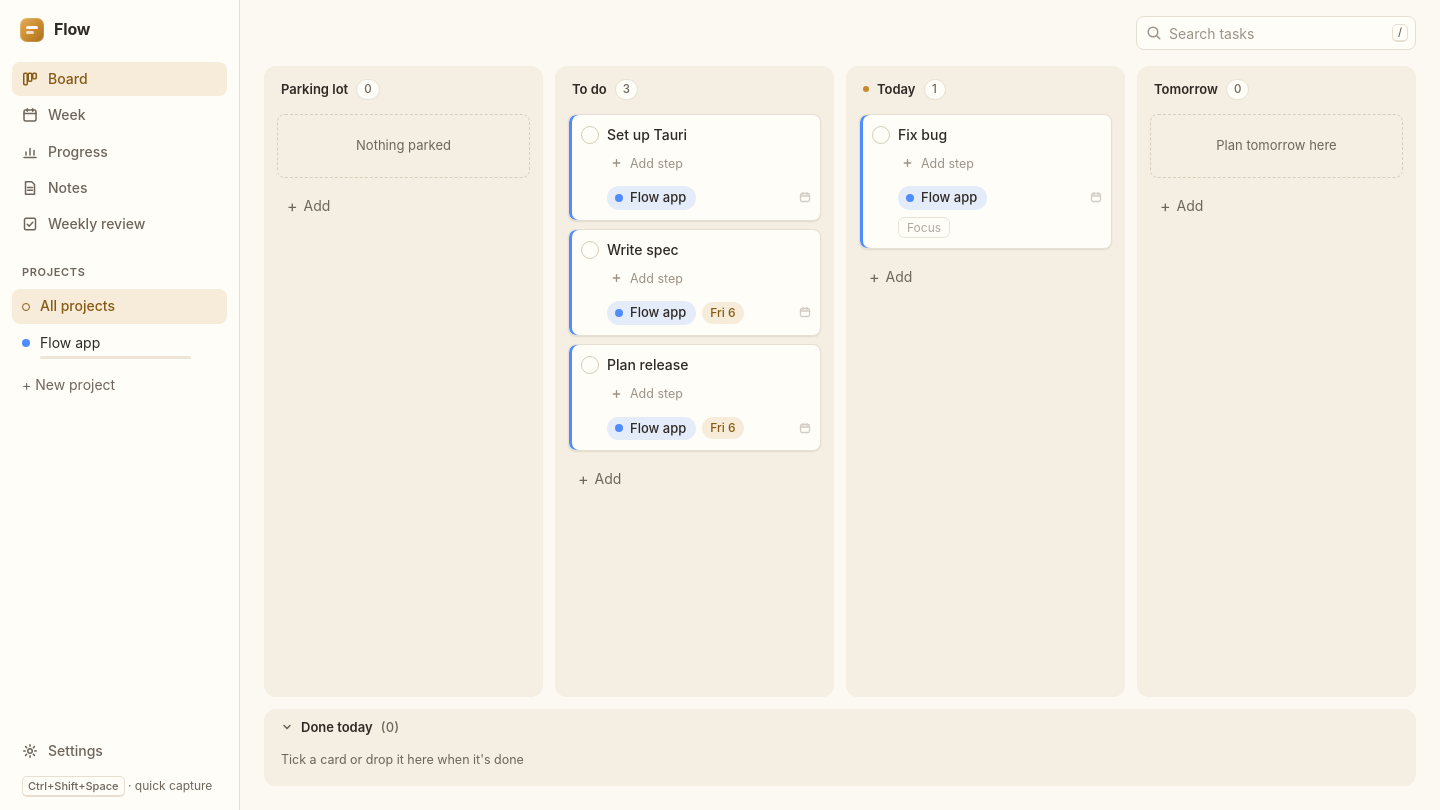
Scenario: Week calendar: week-only items › double-click renames an item inline; Escape keeps the old title
expect the button "Set up Tauri" is shown: met, box [607,125,810,144]
Type keys "w"
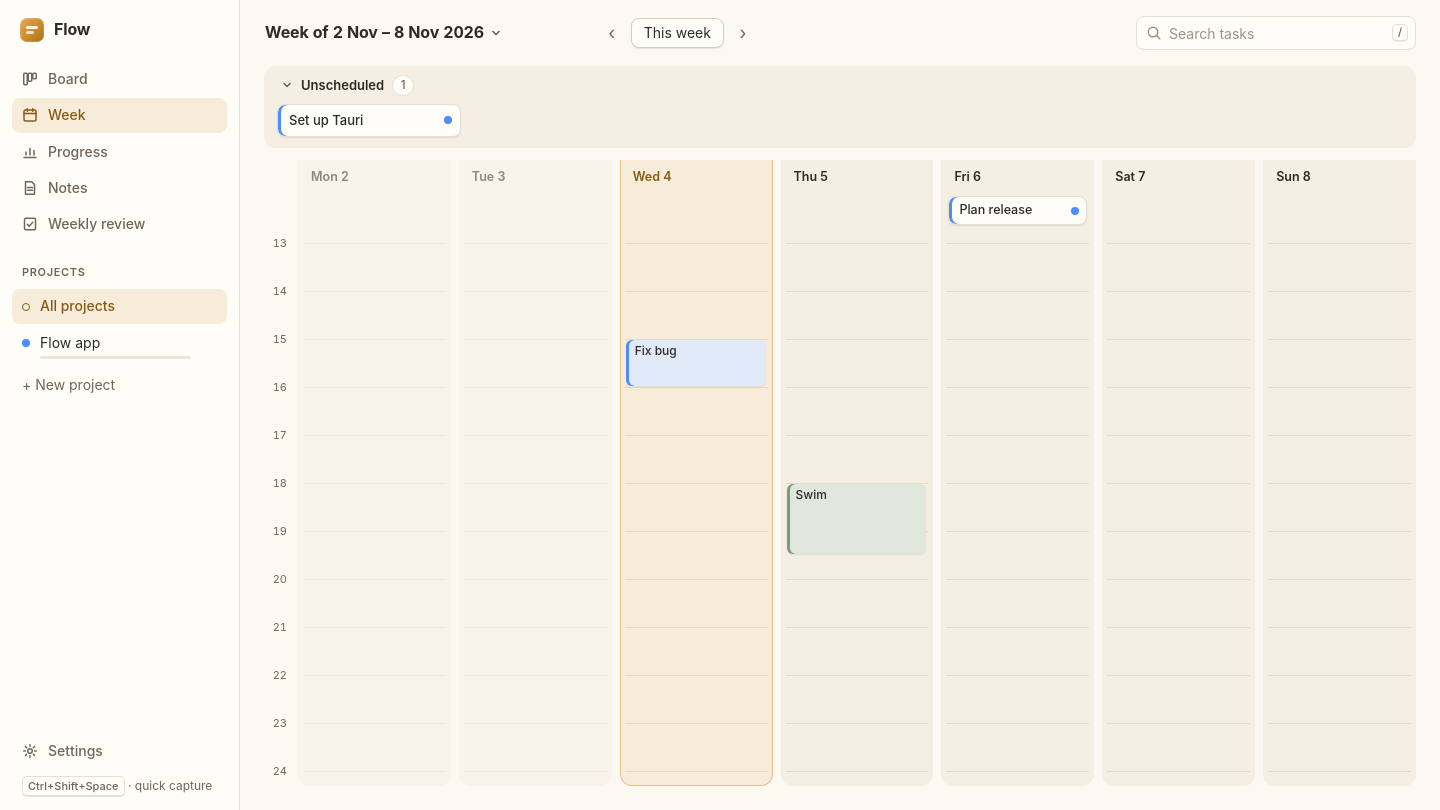
Double-click the button "Swim": (857, 519) [787,484,926,554]
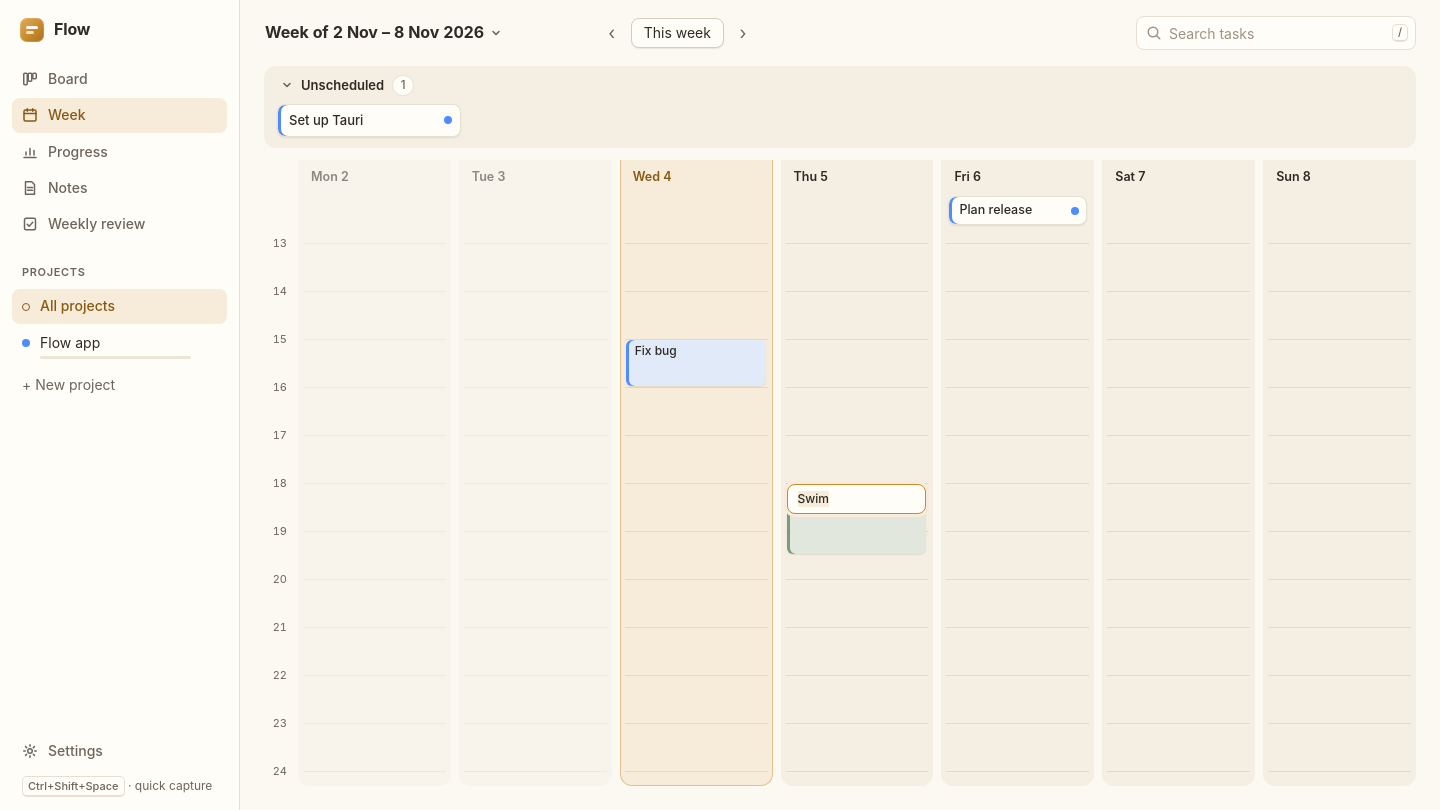
Replace the text in the field named "Rename Swim" with "Swimming": (857, 499) [787,484,926,514]
Then press Enter
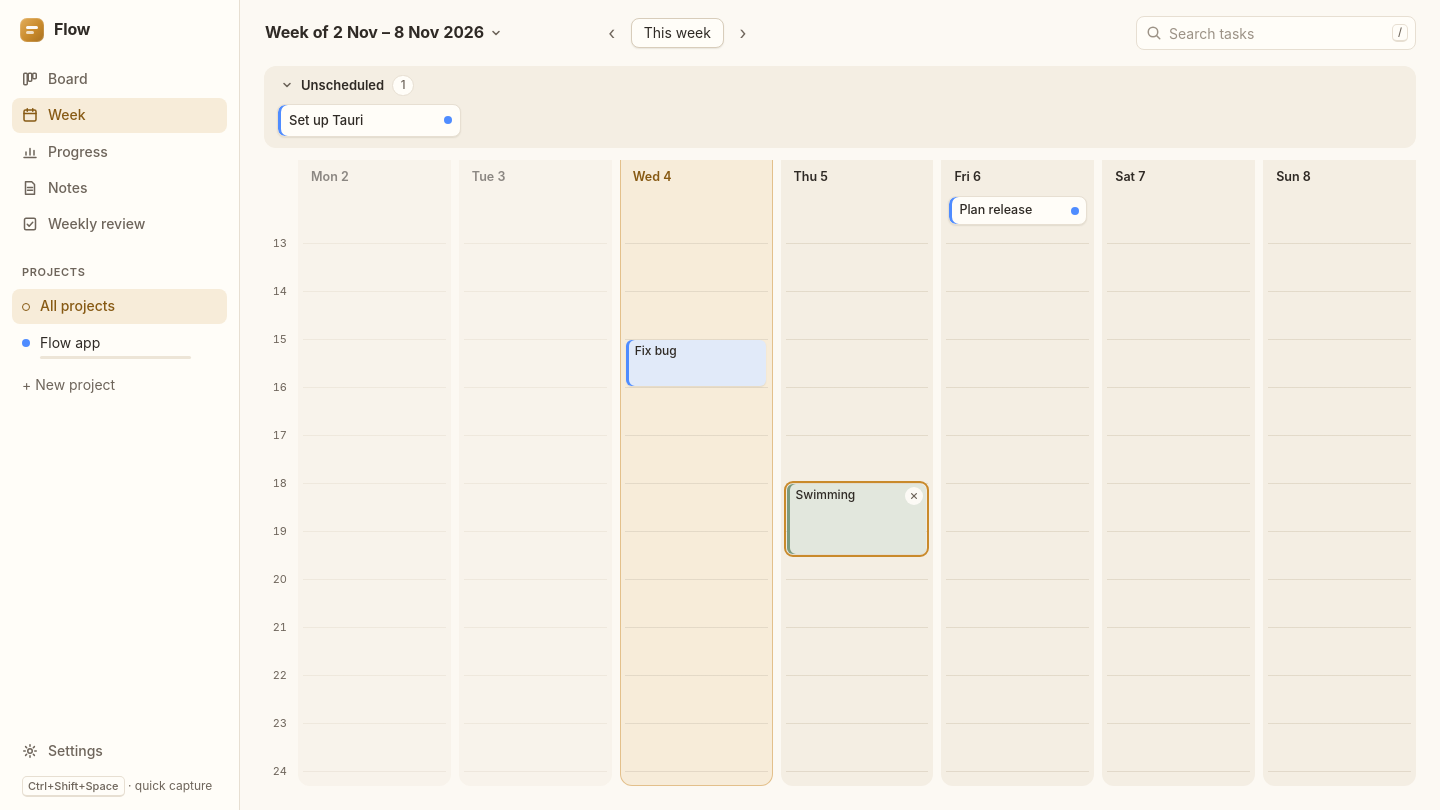
Double-click the button with aria-label "Swimming, Thursday 18:00 to 19:30": (857, 519) [787,484,926,554]
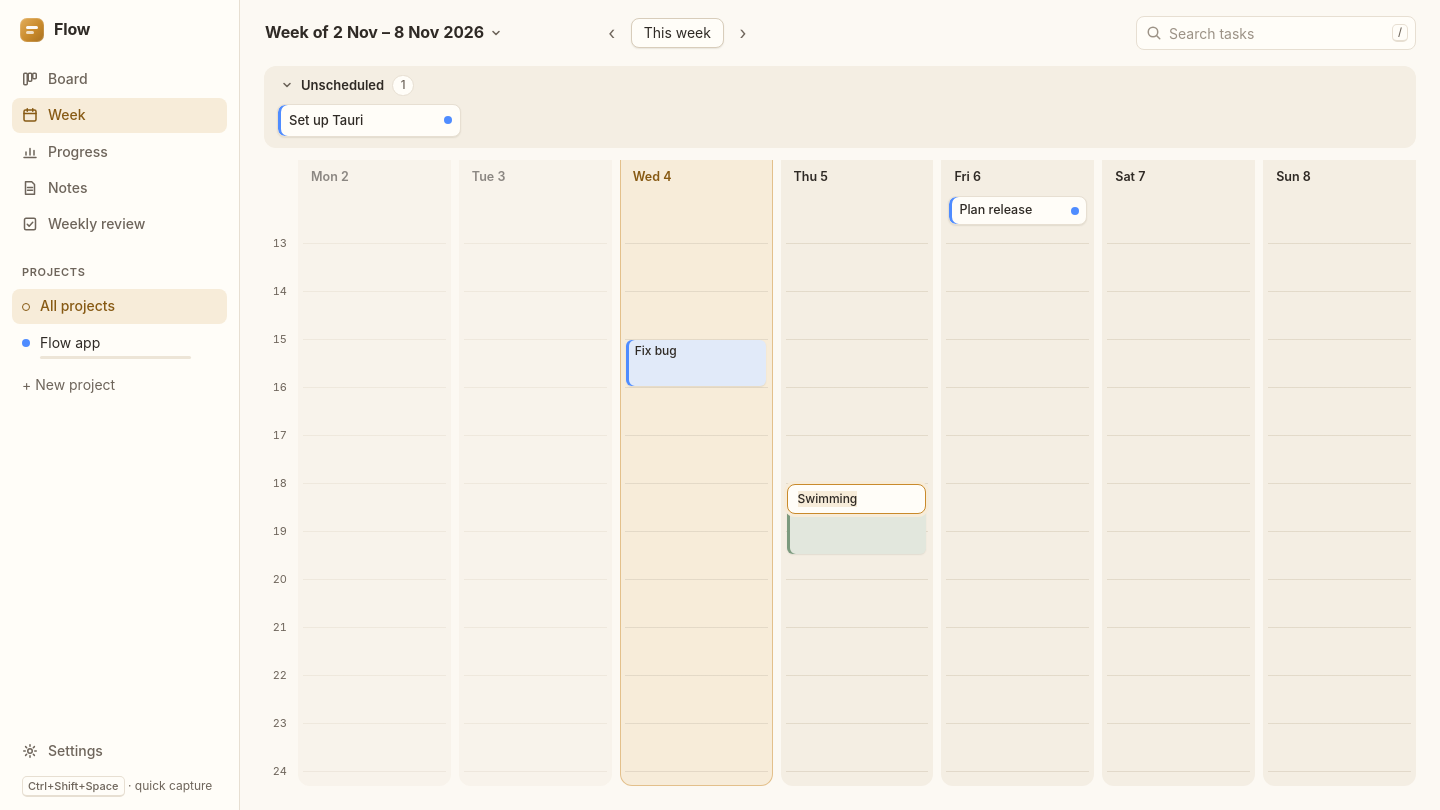
In the field named "Rename Swimming": (857, 499) [787,484,926,514], type "x"
Then press Escape
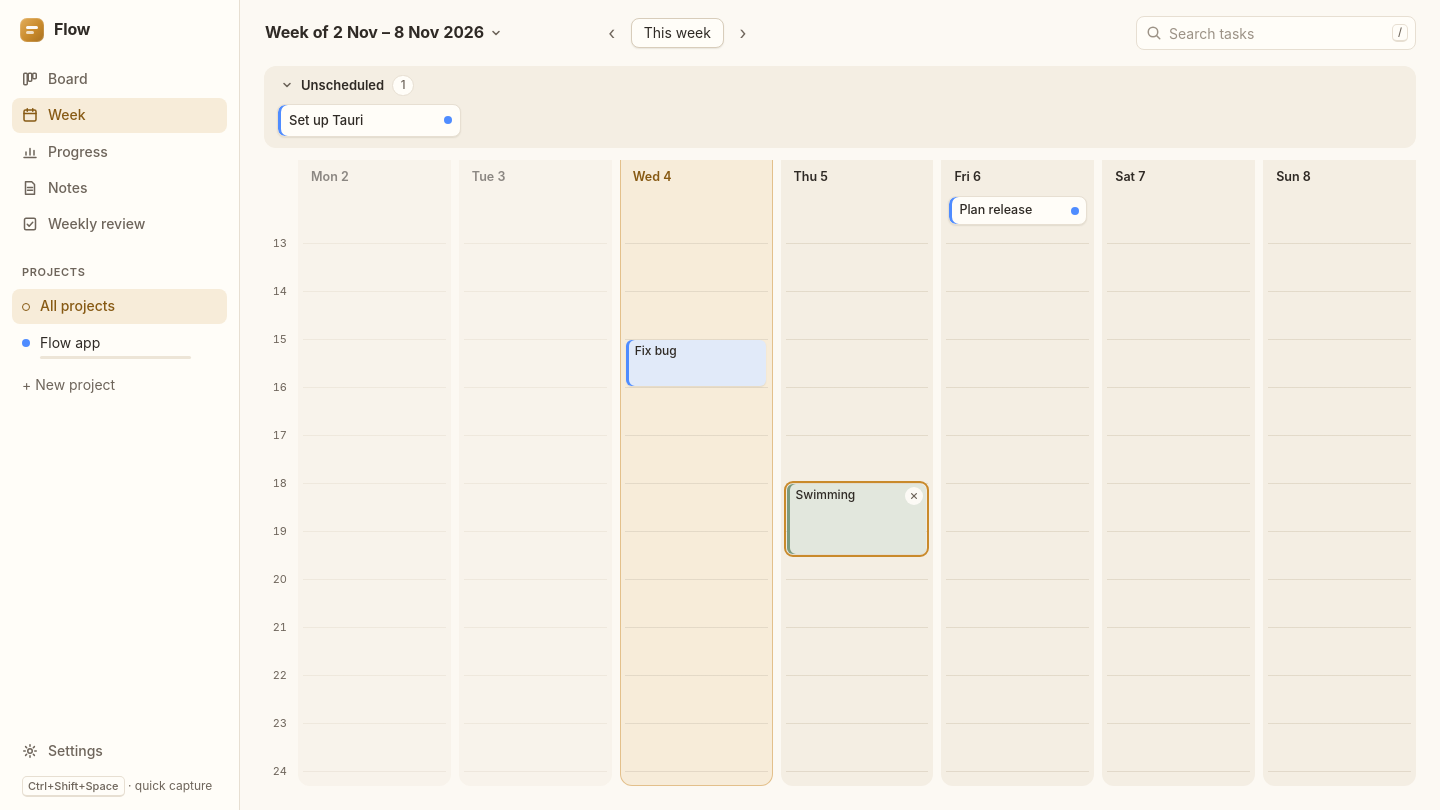
expect the button with aria-label "Swimming," is shown: met, box [787,484,926,554]
